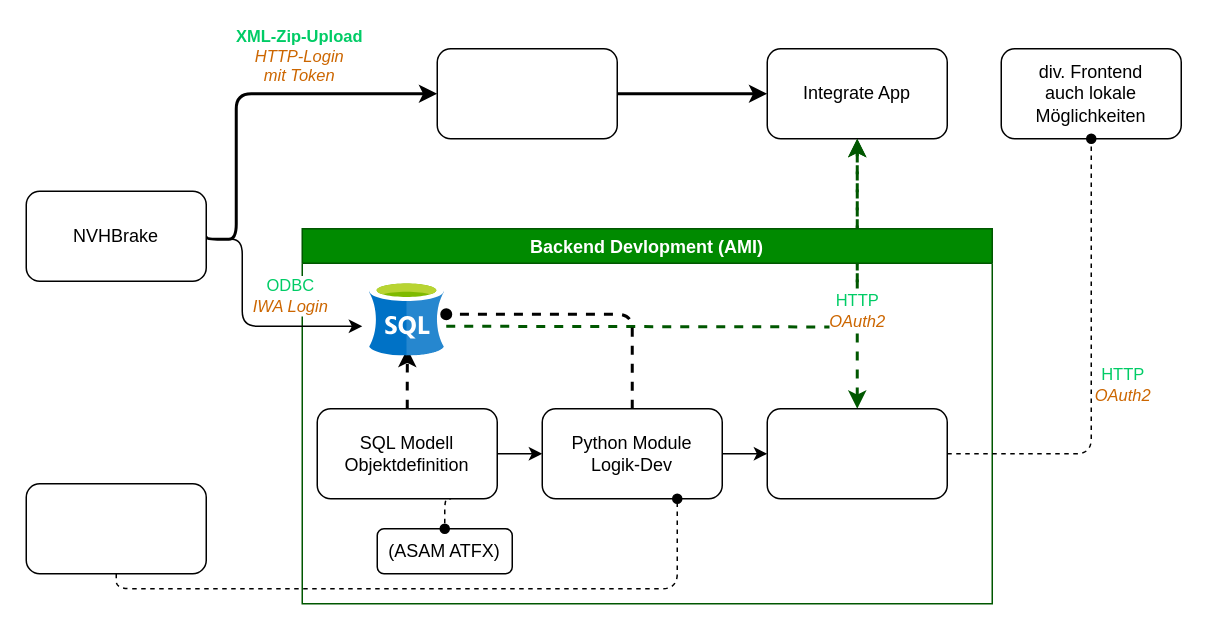
The diagram is 1208 pixels wide and 630 high, and some of its shapes have lost their labels. The centre of each missing label's shape, as x and y in pixels:
"(CAE-Bench)" belongs at point (526, 93).
"FastAPI Endpoints" belongs at point (856, 453).
"Lieferanten App" belongs at point (115, 528).
